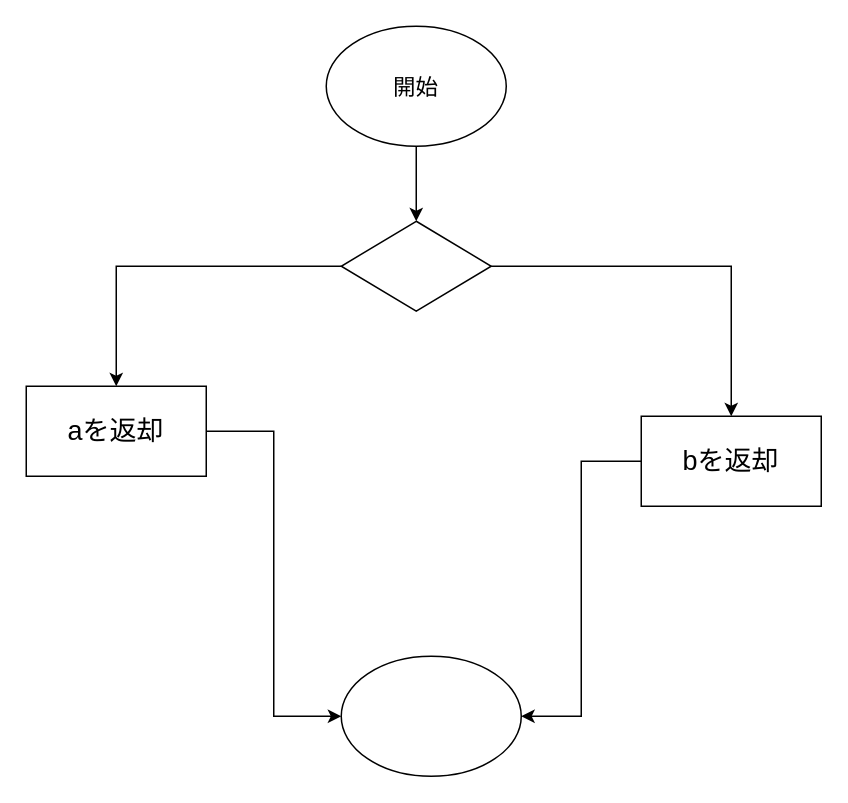
This 848x803 diagram has some shape labels left out. The centre of each missing label's shape, as x and y in pixels:
a>b: the point at 415,265
終了: the point at 430,715
